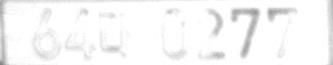0: (160, 6, 189, 60)
2: (195, 7, 225, 59)
4: (64, 8, 97, 58)
6: (30, 7, 62, 60)
7: (229, 7, 260, 58), (267, 7, 297, 57)
다: (97, 11, 129, 58)
